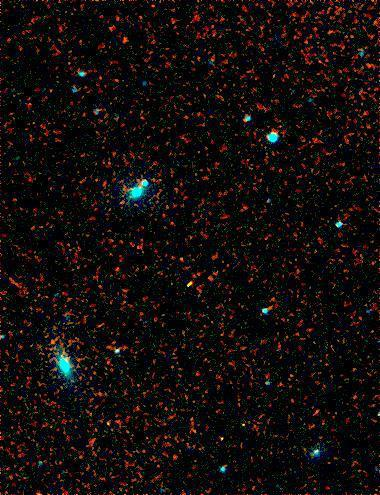star: (110, 25, 140, 55)
